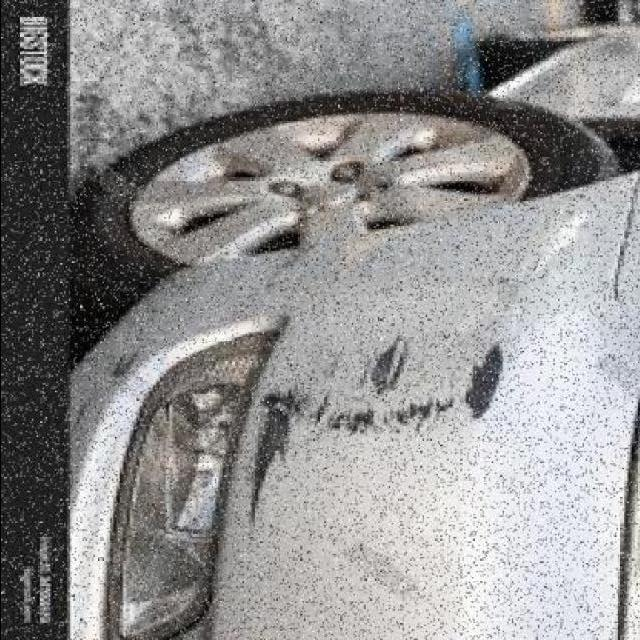front-bumper-dent: (55, 171, 626, 639)
